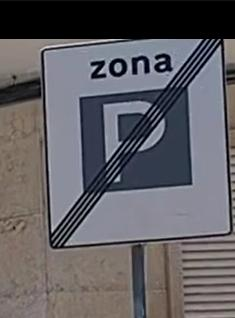fim de zona de estacionamento autorizado: (52, 46, 234, 239)
